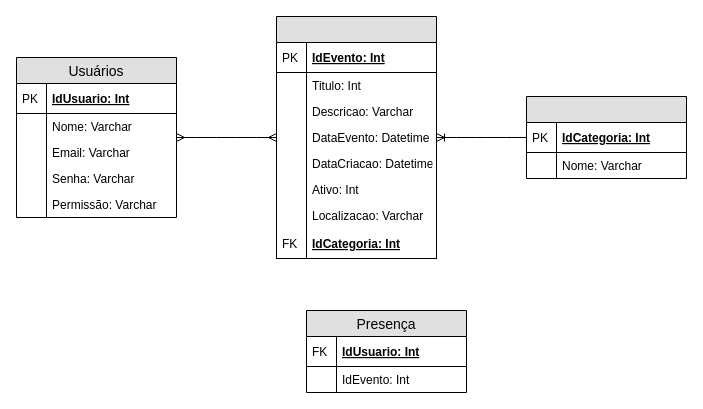
Some shapes in this 703 by 409 pixel diagram are drawn without their labels. The box of each missing label's shape, as (x1, y1, x2, y2) in pixels:
Categorias: (526, 96, 686, 178)
Eventos: (276, 16, 436, 258)
